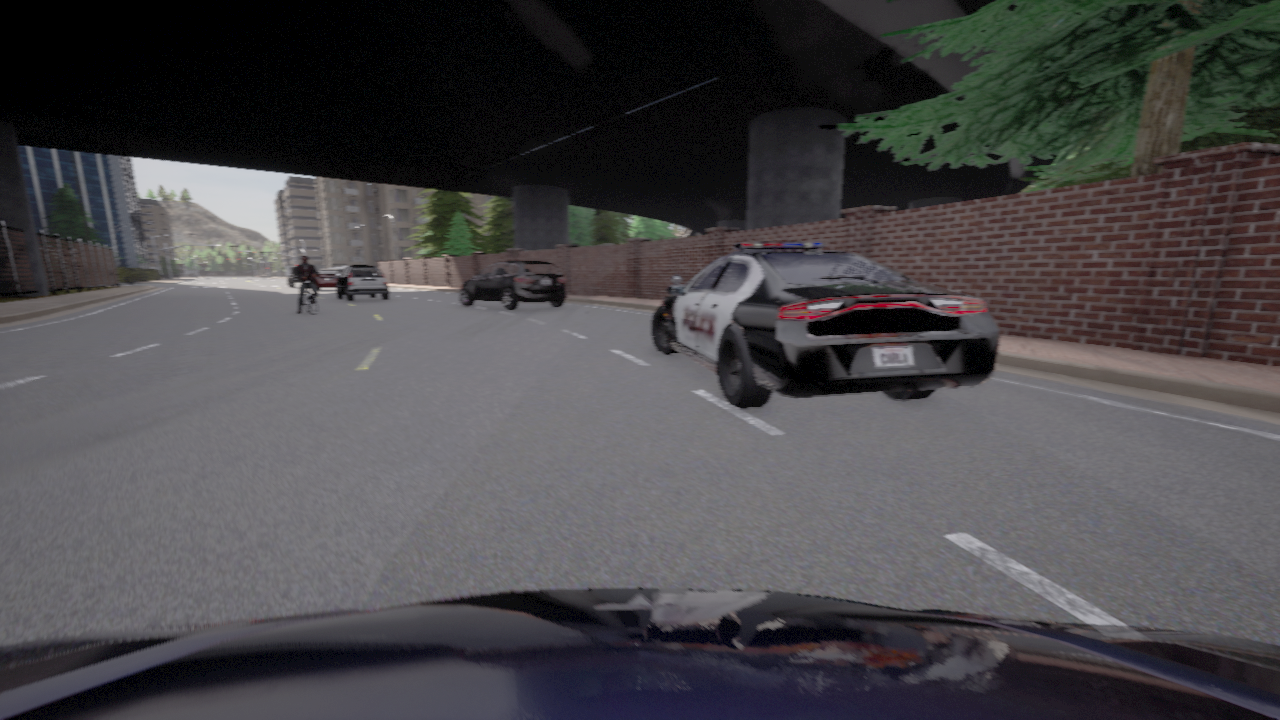cyclist: (0, 588, 1279, 719), (652, 242, 999, 408), (460, 259, 566, 309), (335, 265, 389, 300), (302, 275, 317, 314), (314, 270, 340, 289), (287, 266, 300, 287), (321, 266, 346, 272)
